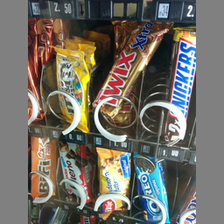chocolate: (93, 24, 165, 117), (163, 29, 196, 143), (51, 47, 91, 132), (94, 147, 131, 217), (133, 154, 169, 224), (57, 142, 90, 203)
